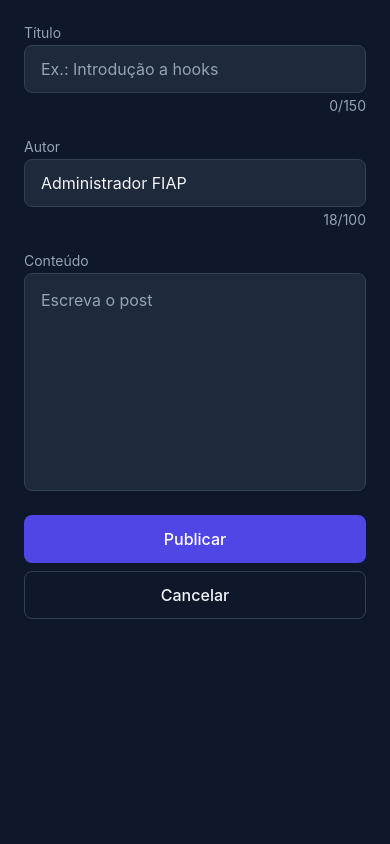
Test case: criação › não envia com campos vazios
The width and height of the screenshot is (390, 844).
Click the button "Publicar" at (195, 539), box [24, 515, 366, 563]
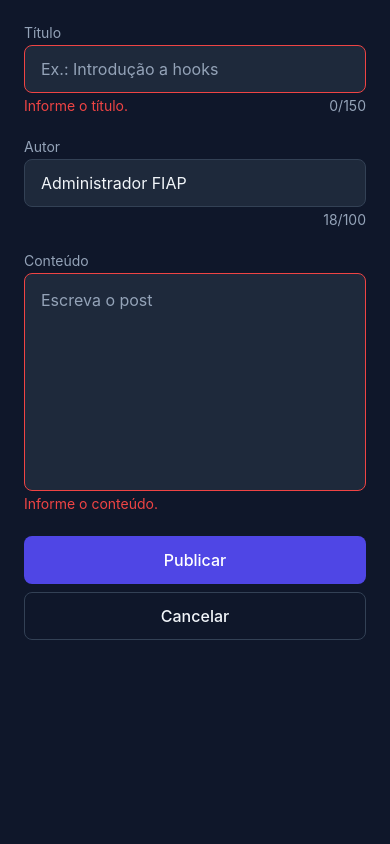
Expected: the text "Informe o título." is shown, [24, 97, 128, 114]
Expected: the text "Informe o conteúdo." is shown, [24, 495, 158, 512]
